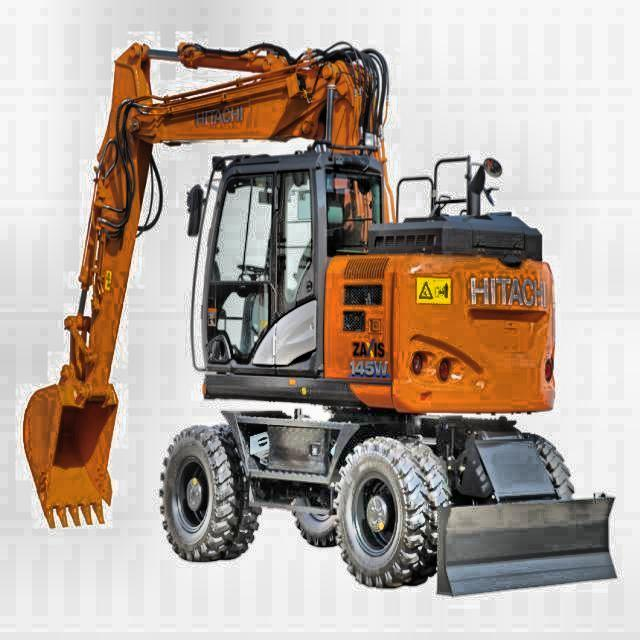excavator: (22, 36, 618, 598)
